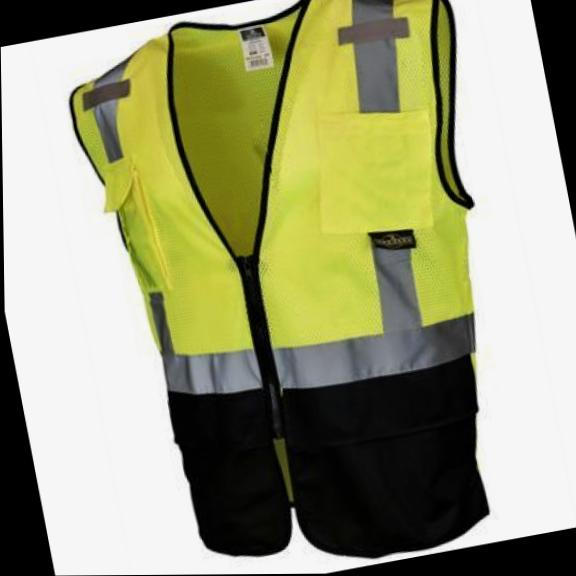safety_vest: (48, 0, 555, 576)
